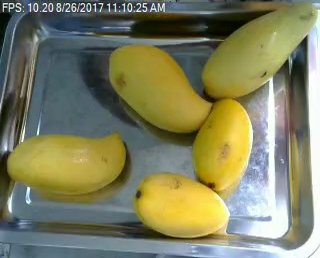Mango: (196, 6, 319, 102), (105, 40, 214, 135), (7, 130, 128, 197), (186, 94, 256, 193), (131, 173, 233, 239)
